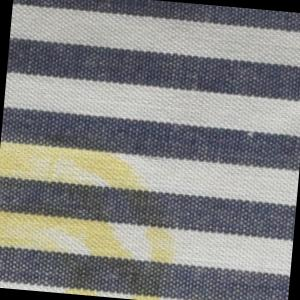Stain: (1, 116, 189, 300)
